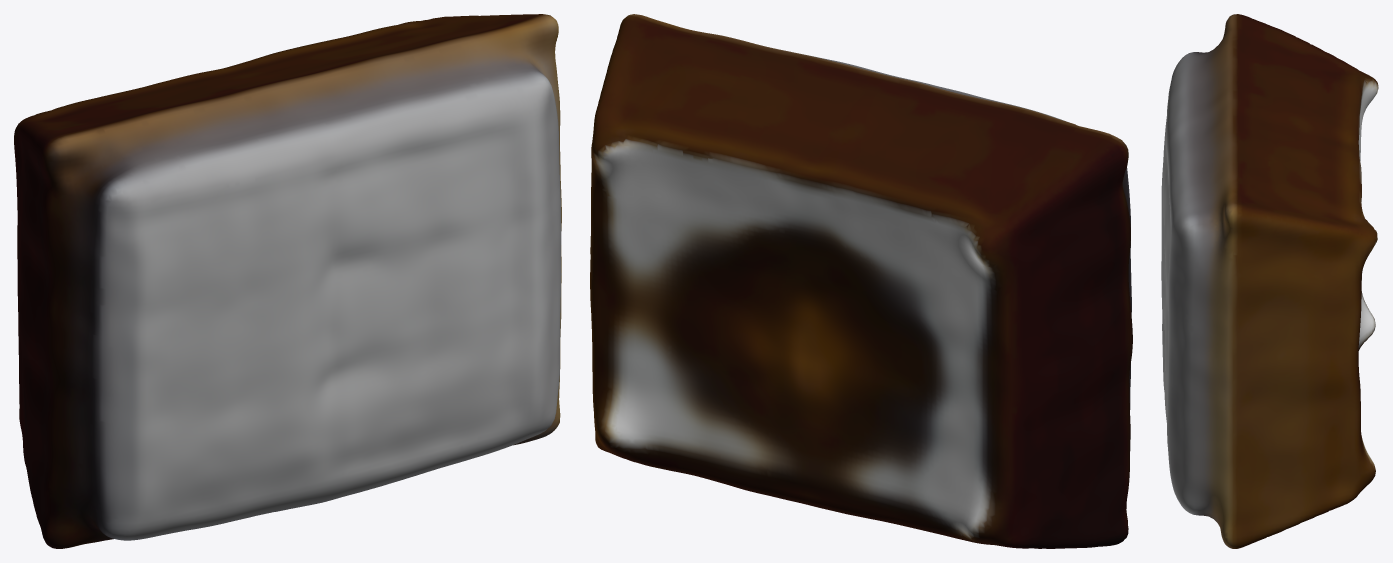
The model's file is soap.glb.
3 renders of one model, left to right at view 1: azimuth 30°, elevation 25°; view 2: azimuth 150°, elevation 25°; view 3: azimuth 270°, elevation 25°, orthographic. The views are drawn at different scales.
Size of the model in its own units: 0.9994 by 0.784 by 0.4468.
